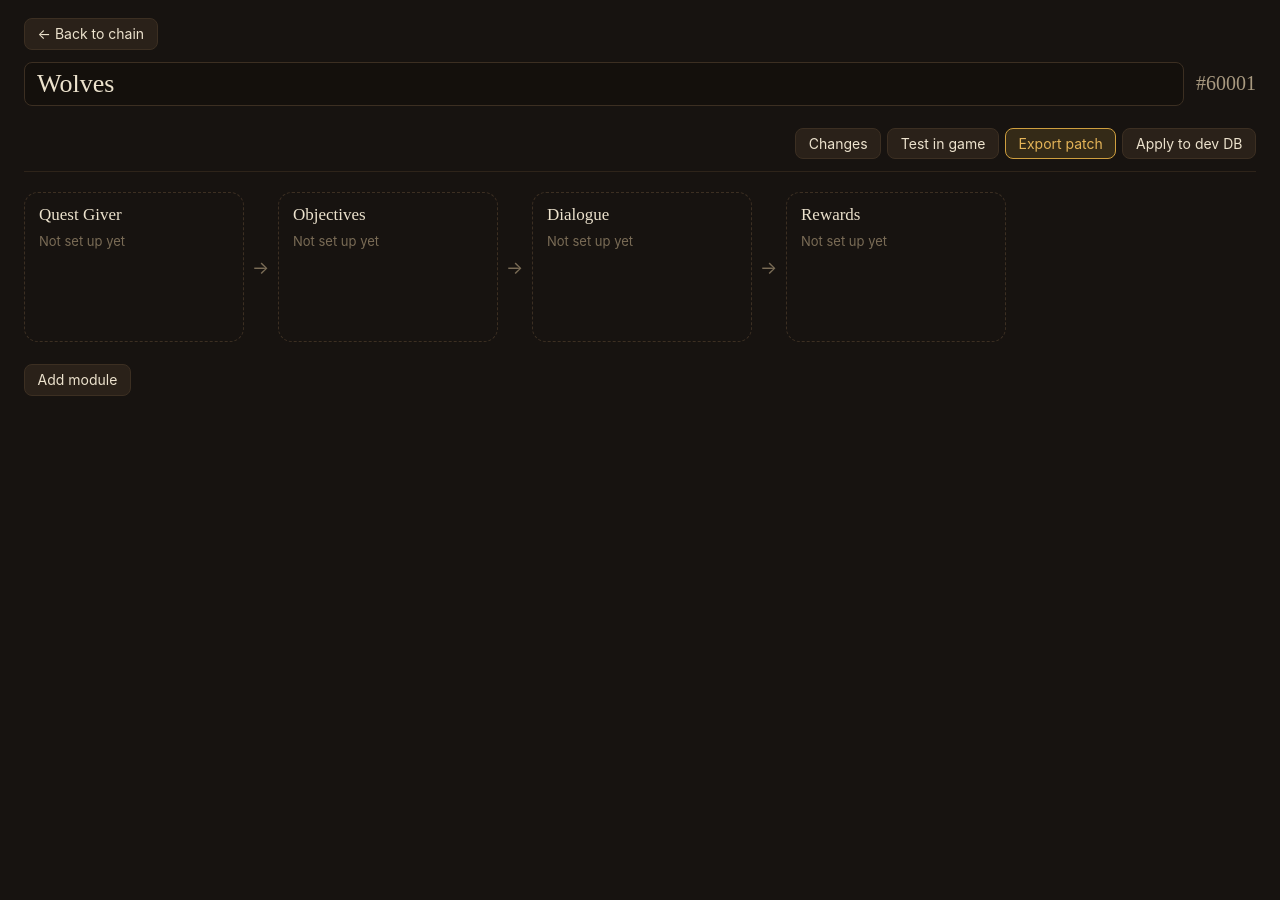
Test: Apply to dev DB › reports a failed apply without claiming success
What coordinates should you click on to do the following:
click the button "Apply to dev DB"
I would click on:
 (1189, 143)
Its box is x1=1122 y1=128 x2=1256 y2=159.
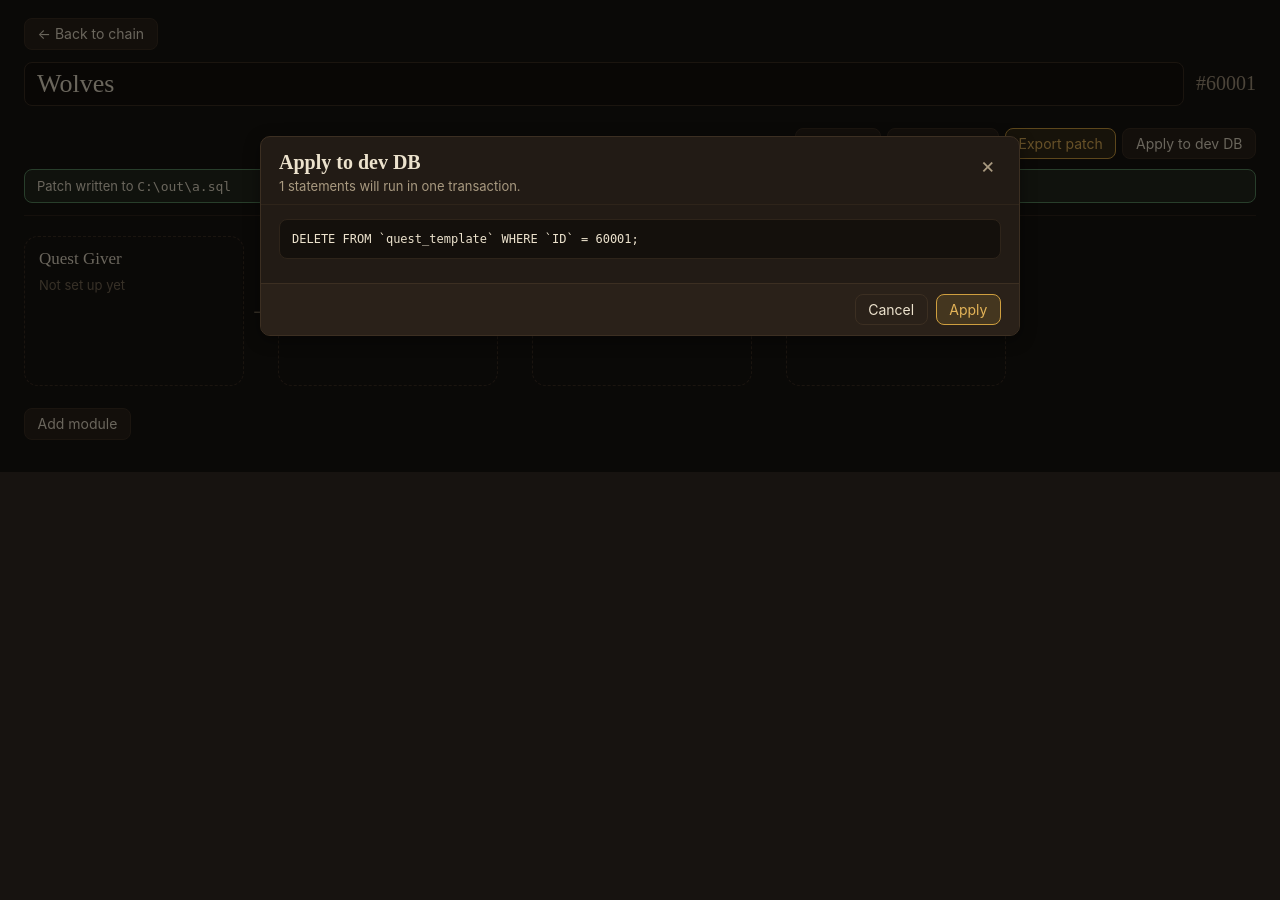
What coordinates should you click on to do the following:
click the button "Apply"
I would click on:
 (968, 309)
Its box is x1=936 y1=294 x2=1001 y2=325.
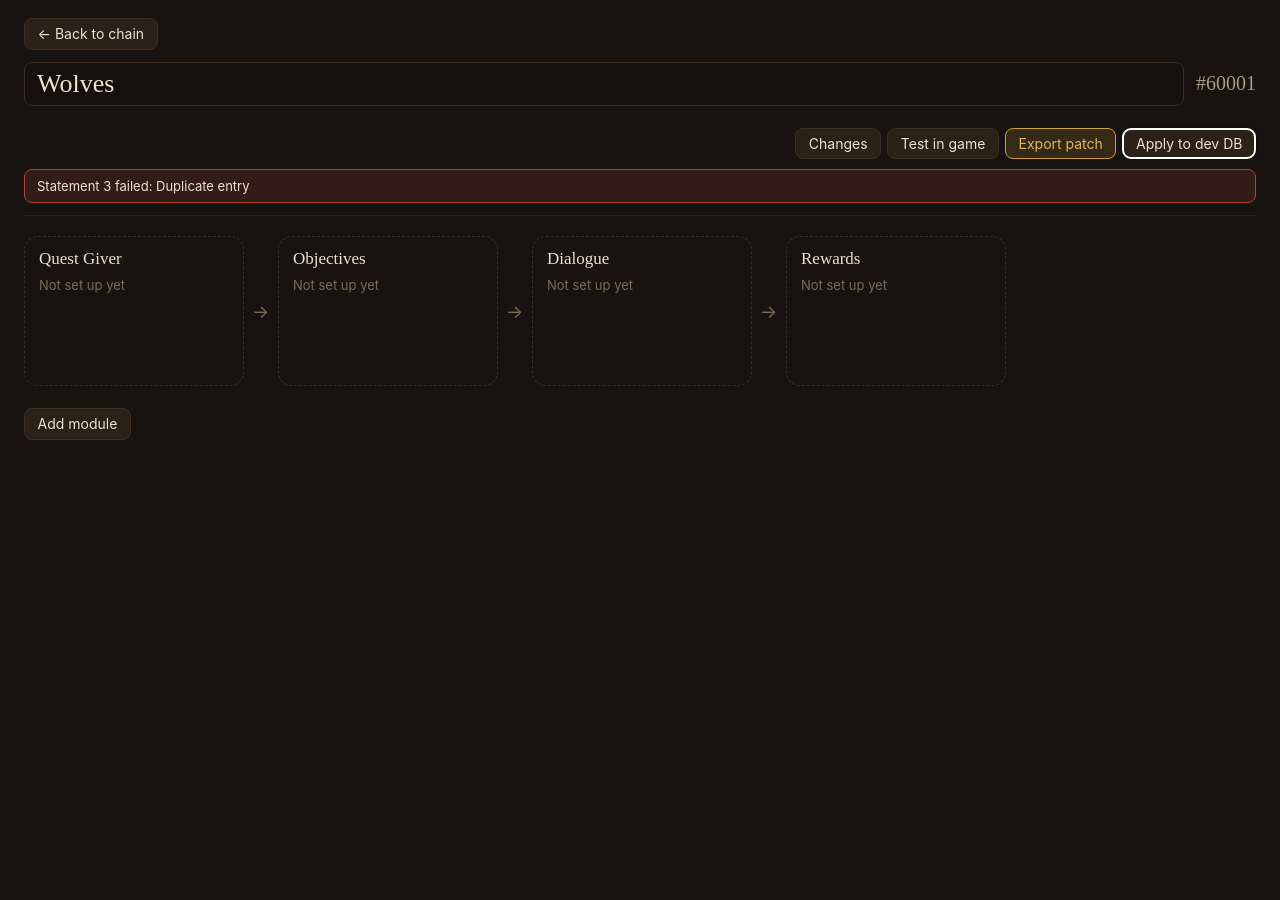
Now the text "Statement 3 failed: Duplicate entry" is shown, box x1=37 y1=178 x2=250 y2=194
